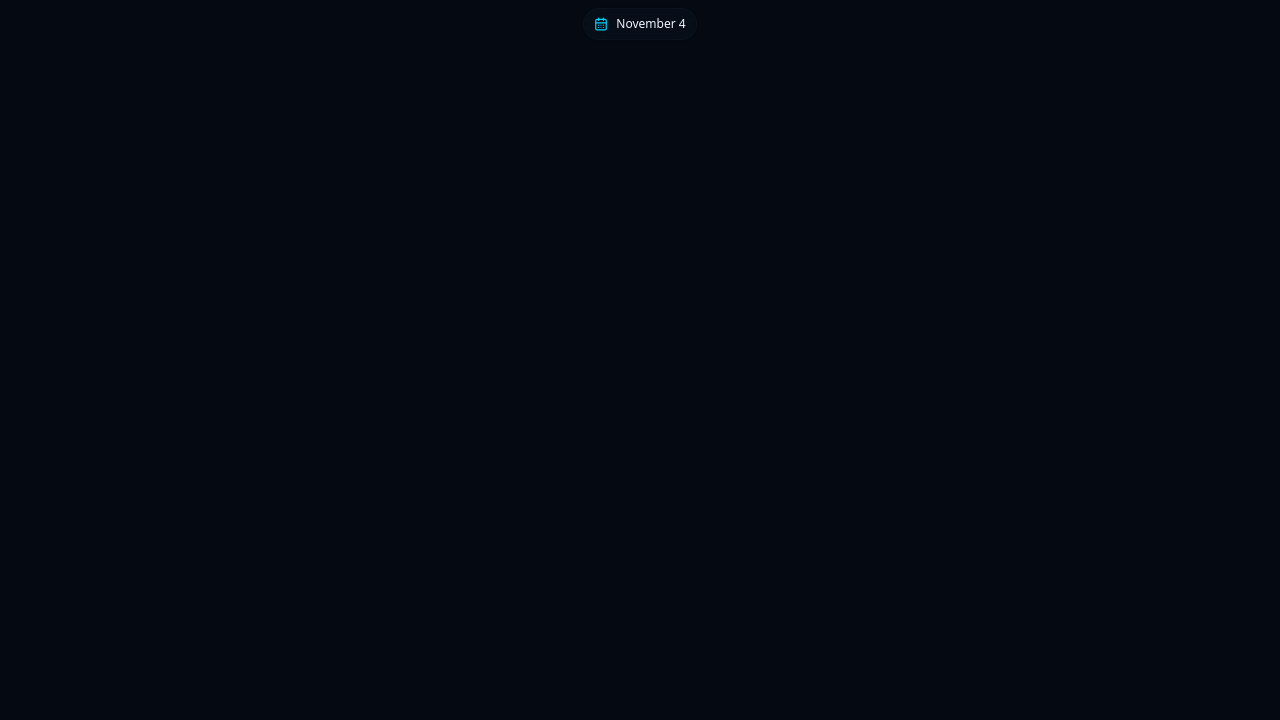
Test: message calendar › can retry loading calendar dates after a network error
Later steps or results of the test are not shown.
Click the button with aria-label "Jump to date": (640, 24) [583,8,697,40]
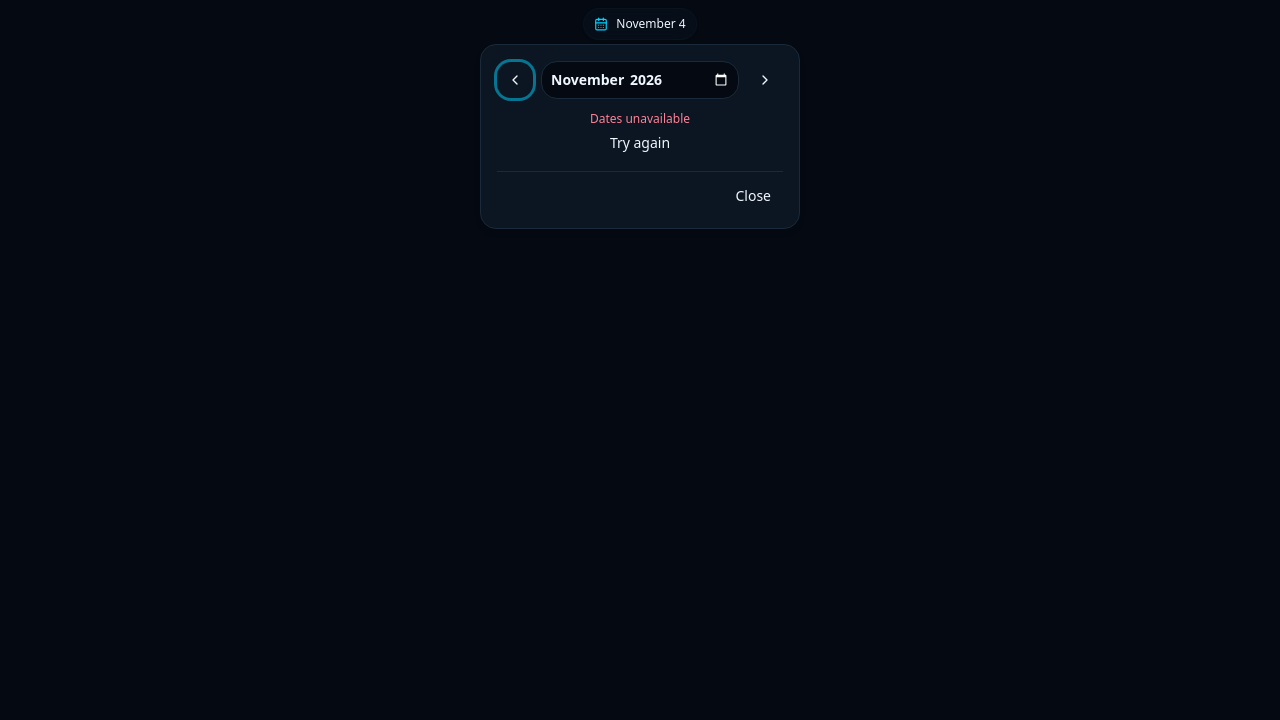
Now the text "Dates unavailable" is shown, box [590,110,690,127]
